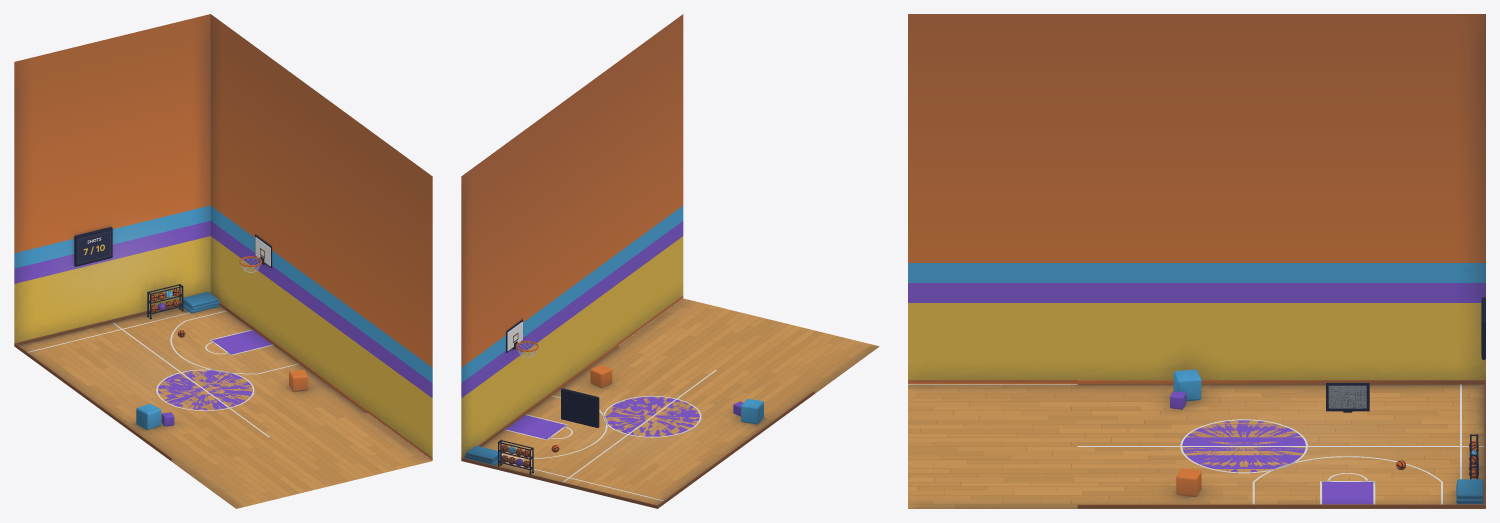
The model's file is play_room.glb.
3 renders of one model, left to right at view 1: azimuth 30°, elevation 25°; view 2: azimuth 150°, elevation 25°; view 3: azimuth 270°, elevation 25°, orthographic. The views are drawn at different scales.
Parts seen in each view (by area): view 1: room_static, scoreboard_screen; view 2: room_static; view 3: room_static, hoop_backboard, hoop_mount.
Part boxes in pixels (x1,y1,x2,y2): room_static: (14, 14, 432, 508); scoreboard_screen: (78, 232, 110, 262); room_static: (461, 14, 879, 508); room_static: (908, 14, 1485, 508); hoop_backboard: (1328, 385, 1366, 408); hoop_mount: (1326, 383, 1369, 412).
Size of the model in its own units: 9.4 by 13 by 18.4.
